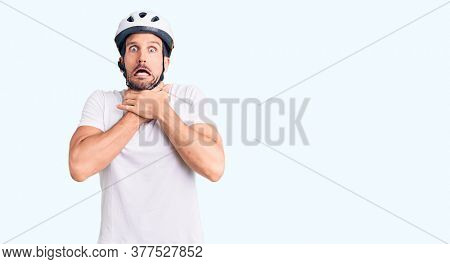helmet: (114, 9, 174, 90)
